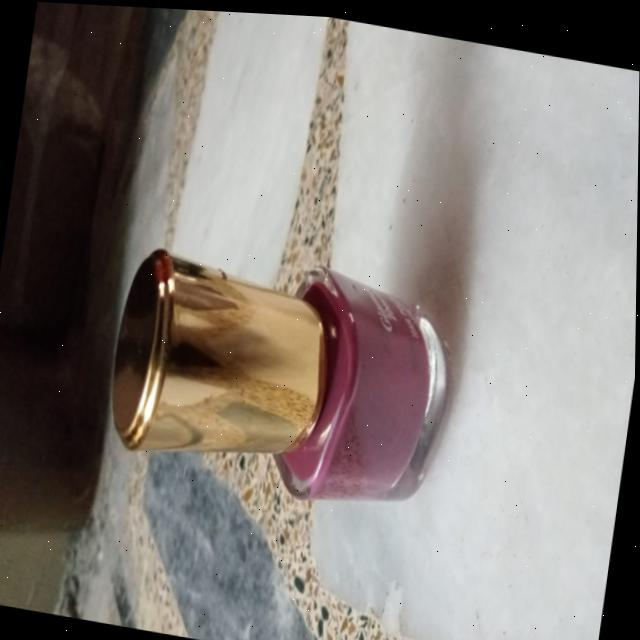nail polish: (90, 205, 471, 530)
